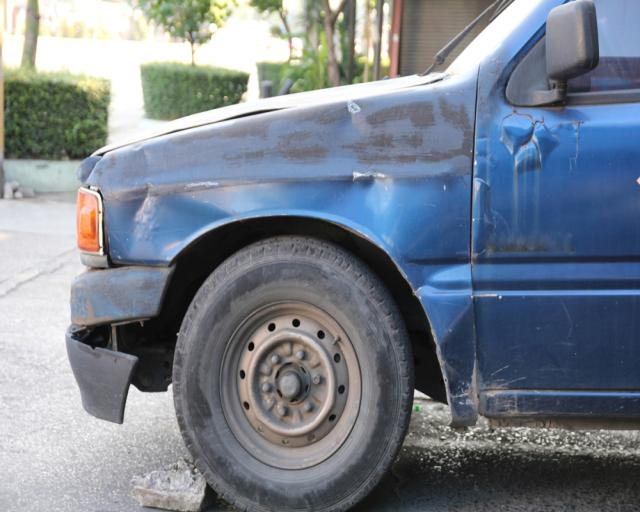dent: (116, 188, 239, 264), (402, 245, 469, 342), (317, 170, 395, 250)
